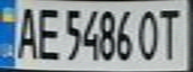4: (78, 6, 100, 61)
5: (60, 4, 84, 61)
6: (115, 6, 139, 62)
8: (97, 7, 118, 62)
A: (12, 2, 42, 61)
E: (33, 2, 63, 61)
O: (136, 6, 163, 62)
T: (154, 5, 184, 62)
